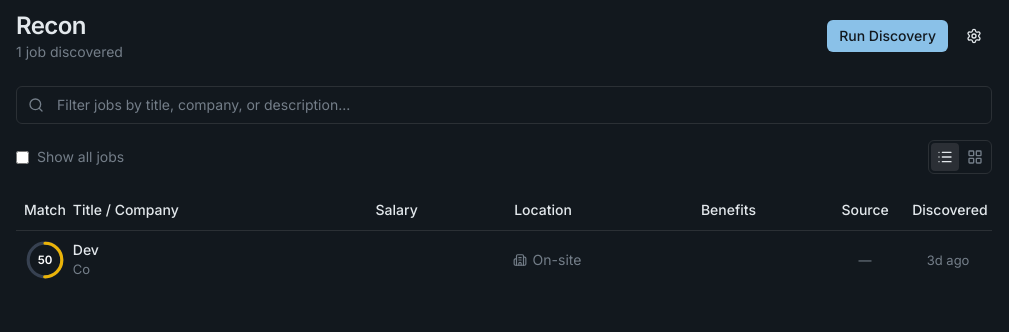
it: Root Page - Feed › [P1] should show error when discovery fails
Step 1. Click the button "Run Discovery" → (888, 36), box [827,20,948,52]
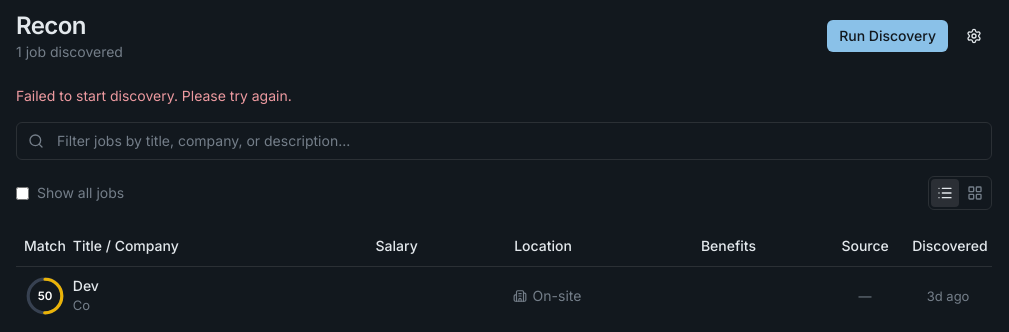
expect the text "Failed to start discovery. Please try again." is shown: met, box [16,87,292,104]
